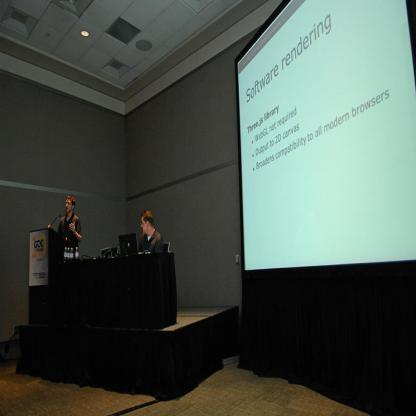board: (118, 232, 146, 254), (66, 247, 70, 260), (75, 247, 79, 259), (70, 248, 74, 259), (64, 247, 66, 260)
